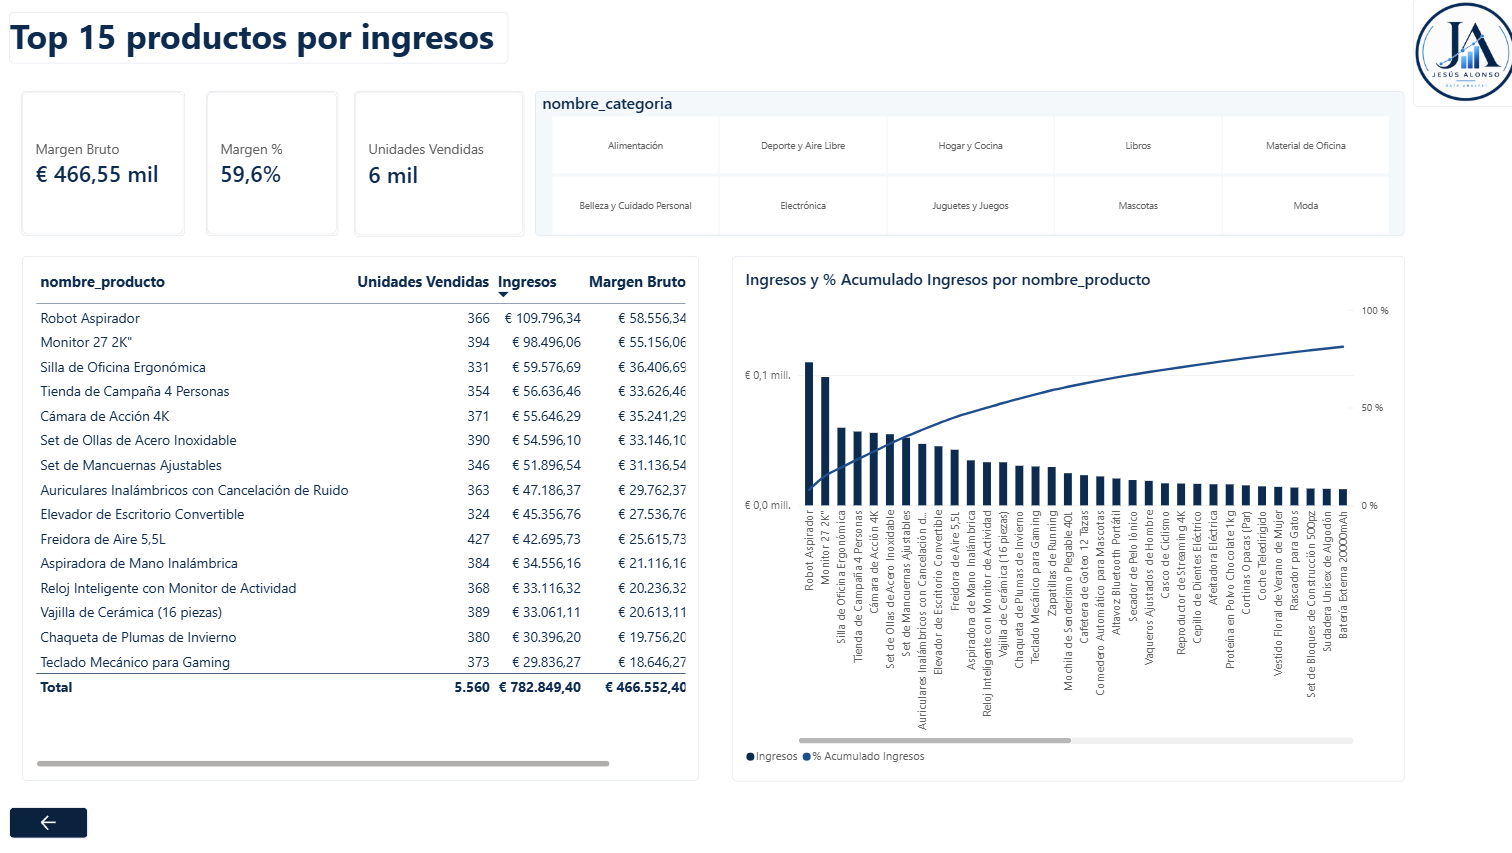

Layout of this report page (visuals, bound fields, positions):
{"tool":"powerbi","page":{"name":"Análisis_producto","canvas":[1920,1080],"ordinal":3},"visuals":[{"type":"textbox","box":[15.6,16.7,630.3,64.6],"z":0},{"type":"image","box":[1785.8,0,134.2,136.4],"z":1000},{"type":"actionButton","box":[15.7,1019.9,100,40],"z":2000},{"type":"slicer","fields":{"Values":["DIM_Categorias.nombre_categoria"]},"box":[679.2,116.7,1097,183.4],"z":3000},{"type":"cardVisual","fields":{"Data":["_Medidas.Margen Bruto"]},"box":[30.8,116.7,206.6,183],"z":4000},{"type":"cardVisual","fields":{"Data":["_Medidas.Margen %"]},"box":[264.2,116.7,166.5,183],"z":5000},{"type":"cardVisual","fields":{"Data":["_Medidas.Unidades Vendidas"]},"box":[450.5,116.7,214.9,183.7],"z":6000},{"type":"tableEx","fields":{"Values":["DIM_Productos.nombre_producto","_Medidas.Unidades Vendidas","_Medidas.Ingresos","_Medidas.Margen Bruto","_Medidas.Margen %"]},"box":[31.5,324.2,854,662.3],"z":7000},{"type":"lineStackedColumnComboChart","fields":{"Category":["DIM_Productos.nombre_producto"],"Y":["_Medidas.Ingresos"],"Y2":["_Medidas.% Acumulado Ingresos"]},"box":[927.2,324,849.1,662.6],"z":7001}]}

Visuals, with their boxes in screenshot pixels (x1, y1, x2, y2), scaled from the page's 1920x1080 canvas onto the 1512x853 screenshot:
textbox: (left=12, top=13, right=509, bottom=64)
image: (left=1406, top=0, right=1511, bottom=108)
actionButton: (left=12, top=806, right=91, bottom=837)
slicer - DIM_Categorias.nombre_categoria: (left=535, top=92, right=1399, bottom=237)
cardVisual - _Medidas.Margen Bruto: (left=24, top=92, right=187, bottom=237)
cardVisual - _Medidas.Margen %: (left=208, top=92, right=339, bottom=237)
cardVisual - _Medidas.Unidades Vendidas: (left=355, top=92, right=524, bottom=237)
tableEx - DIM_Productos.nombre_producto x _Medidas.Unidades Vendidas: (left=25, top=256, right=697, bottom=779)
lineStackedColumnComboChart - DIM_Productos.nombre_producto x _Medidas.Ingresos: (left=730, top=256, right=1399, bottom=779)
